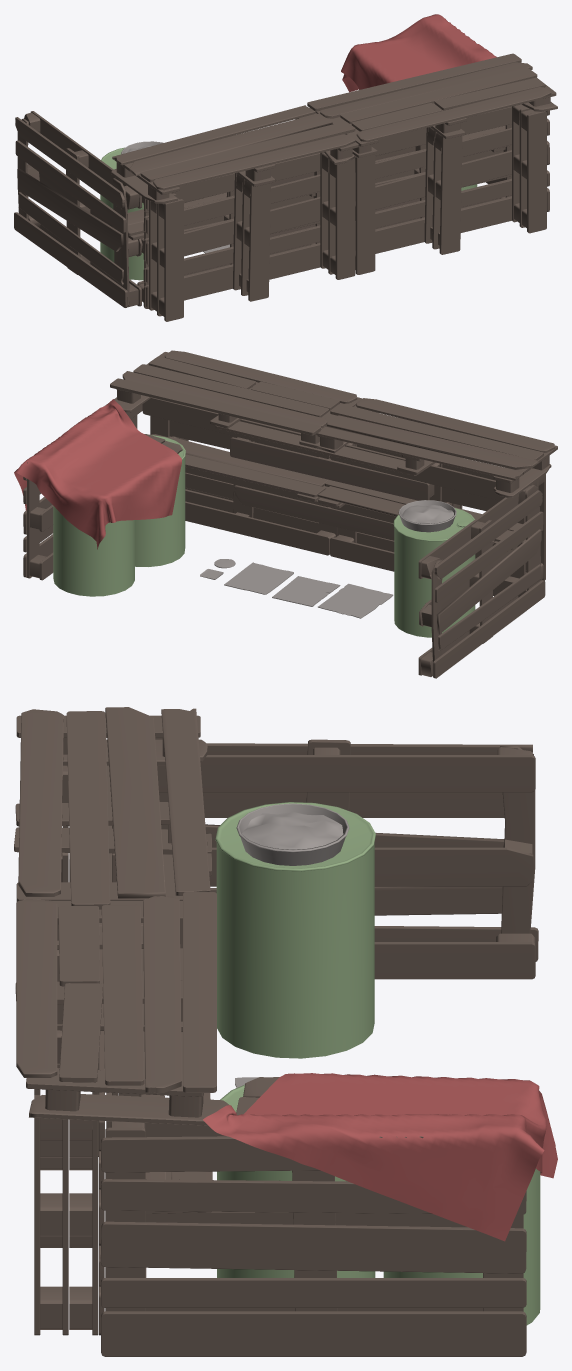
The model's file is bar.fbx.
3 views of the same model, one above another, from view 1: azimuth 30°, elevation 25°; view 2: azimuth 150°, elevation 25°; view 3: azimuth 270°, elevation 25° (orthographic). The views are drawn at different scales.
Visible parts, largest first — view 1: bar, frigo; view 2: bar, frigo, carton_plat3, carton_plat1, carton_plat2; view 3: bar, frigo.
Boxes of the visible parts, bbox=[...] form: bar: bbox=[14, 14, 557, 321]; frigo: bbox=[100, 141, 163, 280]; bar: bbox=[14, 350, 557, 678]; frigo: bbox=[393, 500, 475, 637]; carton_plat3: bbox=[318, 583, 393, 618]; carton_plat1: bbox=[224, 562, 293, 594]; carton_plat2: bbox=[272, 576, 340, 606]; bar: bbox=[14, 707, 557, 1356]; frigo: bbox=[215, 802, 375, 1058].
Size of the model in its own units: 3.18 by 1 by 1.84.
